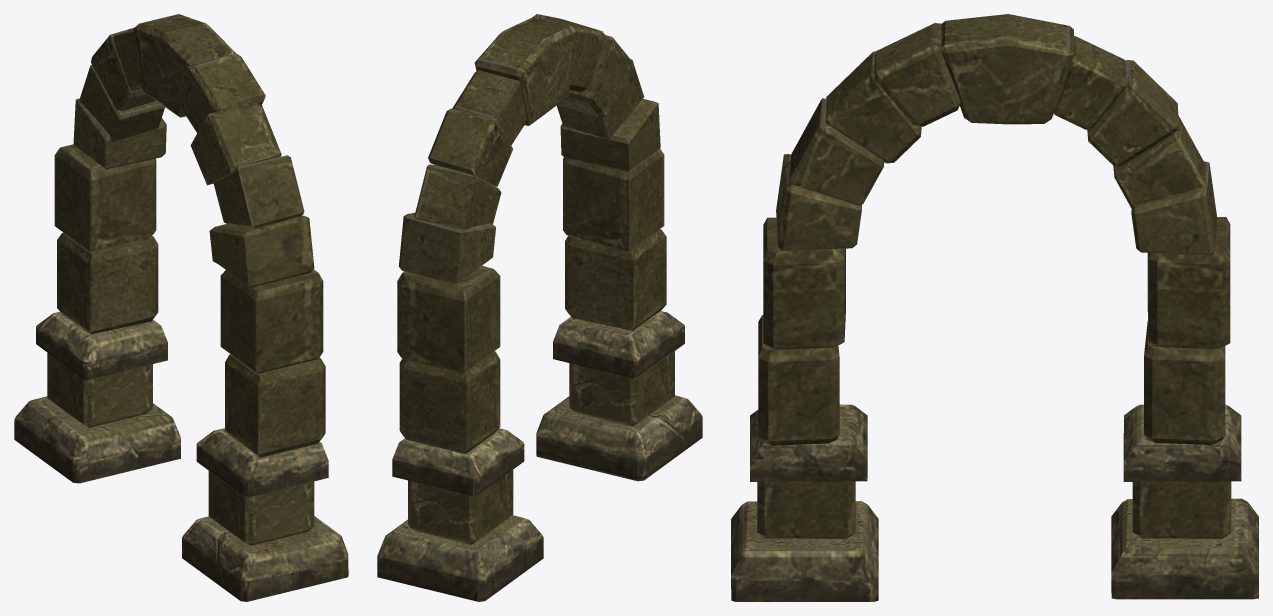
File: Stage001_DOOR_04.FBX
3 views of the same model, side by side, from view 1: azimuth 30°, elevation 25°; view 2: azimuth 150°, elevation 25°; view 3: azimuth 270°, elevation 25° (orthographic). The views are drawn at different scales.
Visible parts, largest first — view 1: Stage001_DOOR_04; view 2: Stage001_DOOR_04; view 3: Stage001_DOOR_04.
Part boxes in pixels (x1,y1,x2,y2): Stage001_DOOR_04: (14, 14, 348, 601); Stage001_DOOR_04: (377, 14, 702, 601); Stage001_DOOR_04: (731, 14, 1258, 601).
Bounding box in the file's own units: 142 × 577 × 500.
1 material, 1 textured.
